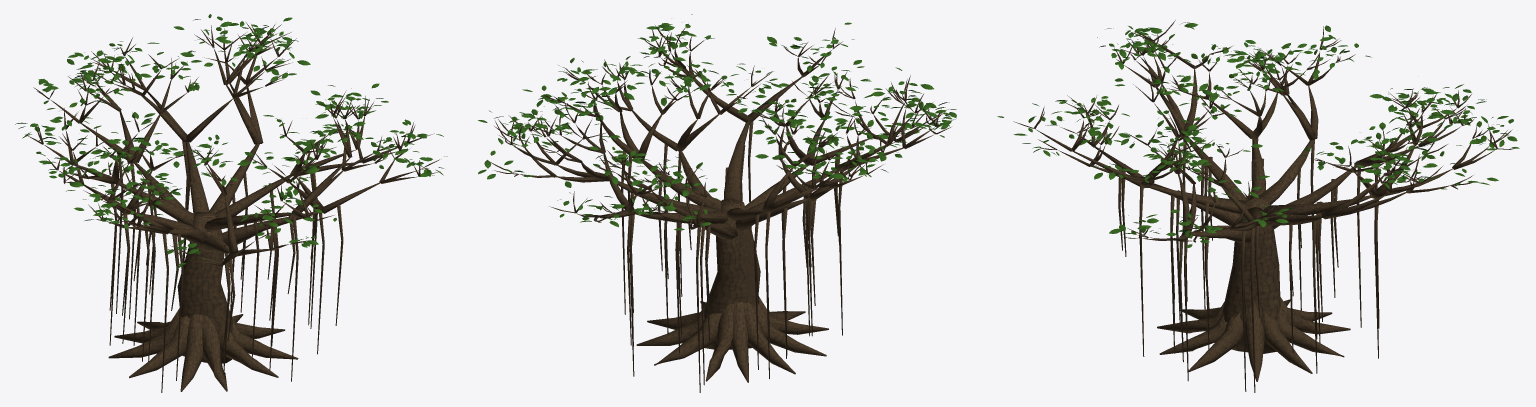
File: 01_banyan.glb
The picture shows the model from 3 angles, left to right: view 1: azimuth 30°, elevation 25°; view 2: azimuth 150°, elevation 25°; view 3: azimuth 270°, elevation 25°; orthographic projection. The views are drawn at different scales.
Parts seen in each view (by area): view 1: 01_banyan | Banyan | fissured warm bark, Banyan | individually modeled evergreen leaves; view 2: 01_banyan | Banyan | fissured warm bark, Banyan | individually modeled evergreen leaves; view 3: 01_banyan | Banyan | fissured warm bark, Banyan | individually modeled evergreen leaves.
Part boxes in pixels (<box>): 01_banyan | Banyan | fissured warm bark: <box>25,22,439,392</box>; Banyan | individually modeled evergreen leaves: <box>15,14,447,268</box>; 01_banyan | Banyan | fissured warm bark: <box>490,25,955,392</box>; Banyan | individually modeled evergreen leaves: <box>478,14,956,230</box>; 01_banyan | Banyan | fissured warm bark: <box>1013,20,1514,392</box>; Banyan | individually modeled evergreen leaves: <box>997,22,1519,248</box>.
Size of the model in its own units: 9.69 by 6.6 by 11.3.
3 materials, 3 textured.
